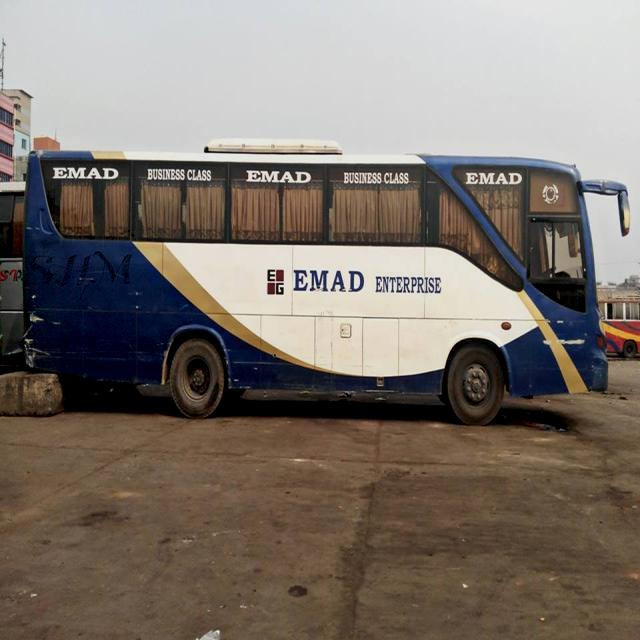bus: (23, 134, 633, 428)
